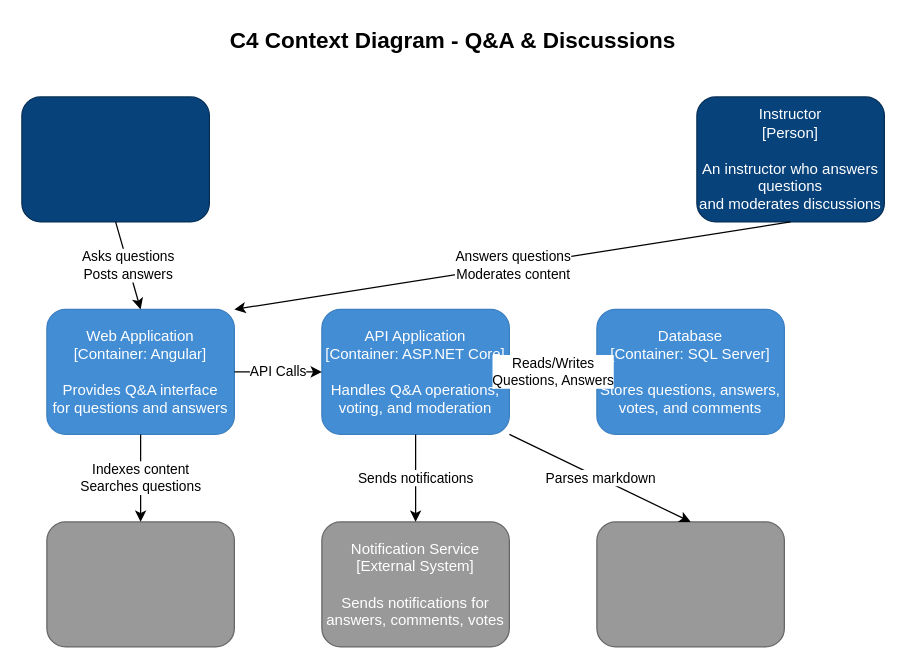
Image size: 906x669. Some labels were removed from this diagram. Here are the shapes that lost their labels. From the top down, the centre of each, then its label:
At point 115,159: "Student [Person] A student who asks questions and participates in discussions".
At point 140,584: "Search Engine [External System] Full-text search for questions and answers".
At point 690,584: "Markdown Service [External System] Parses and renders markdown content".
